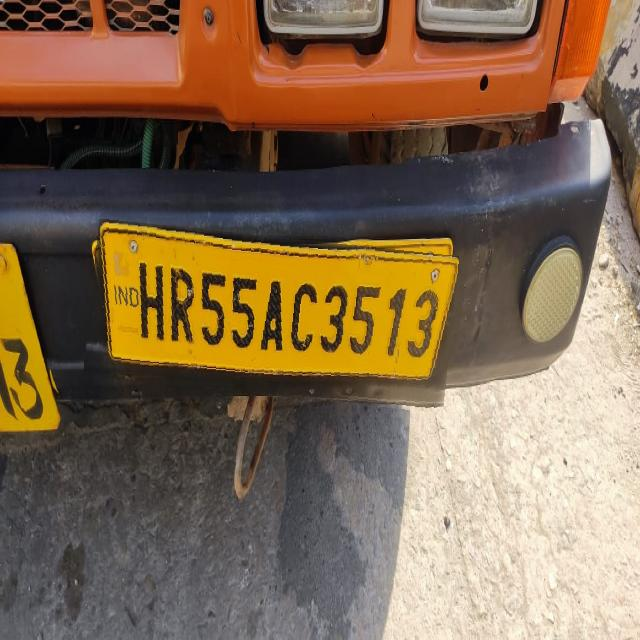License-plate: (87, 228, 456, 404)
